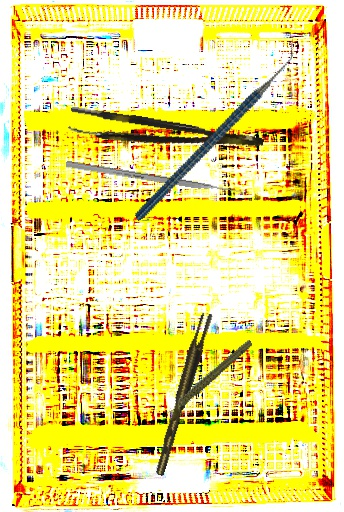Chopper: (96, 38, 335, 222)
Handpiece: (152, 338, 264, 416)
Pusher: (65, 160, 249, 197)
Tissue Forceps: (146, 310, 219, 477), (67, 105, 265, 164)
